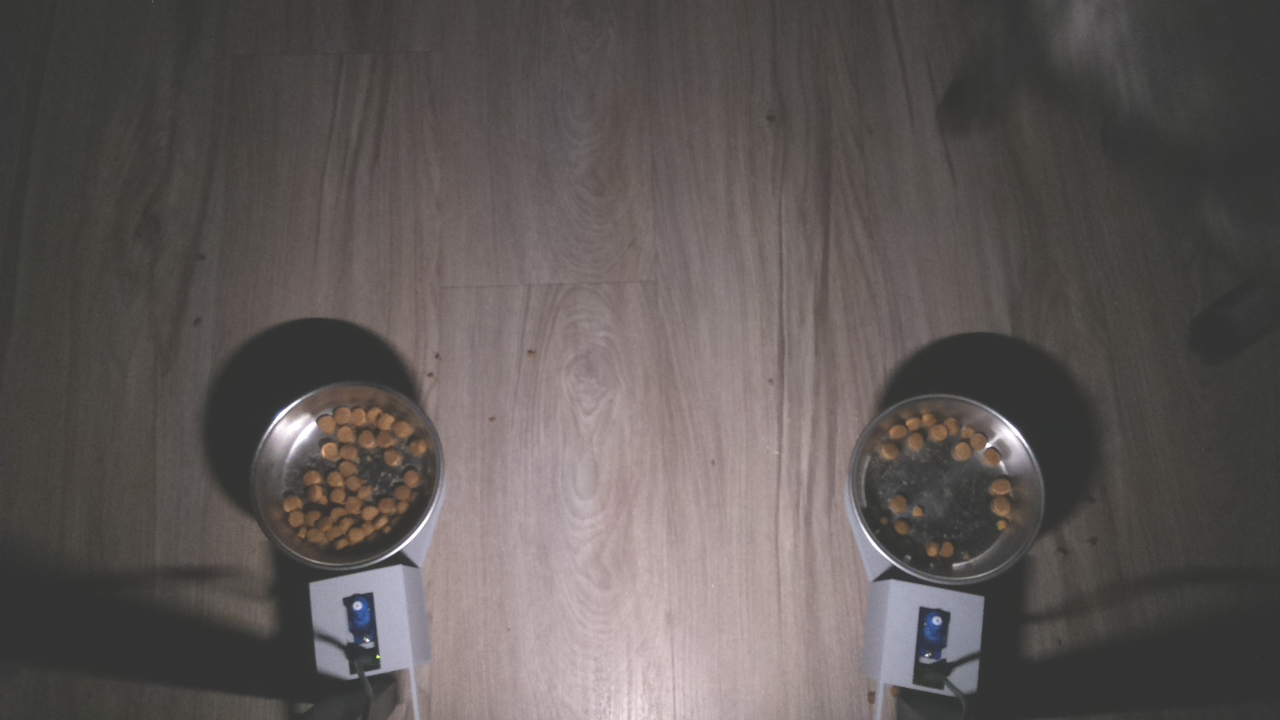open_bowl: (842, 385, 1051, 603), (242, 380, 457, 578)
